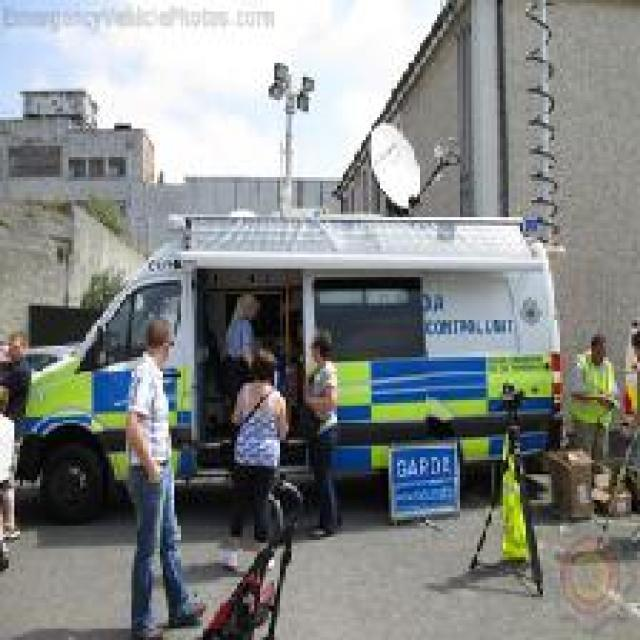emergency: (9, 209, 567, 525)
